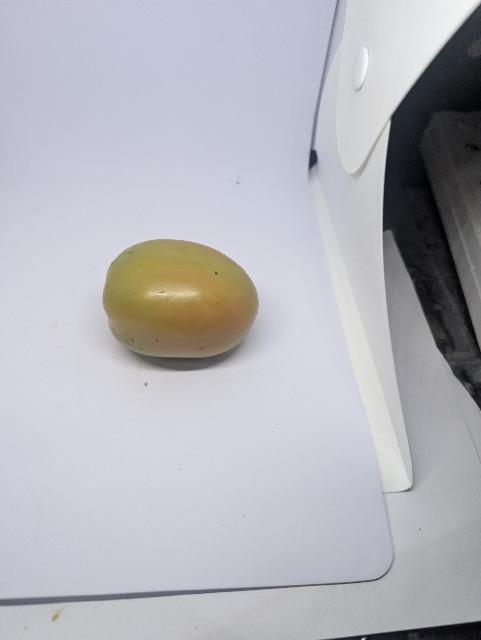breaker: (97, 234, 272, 367)
